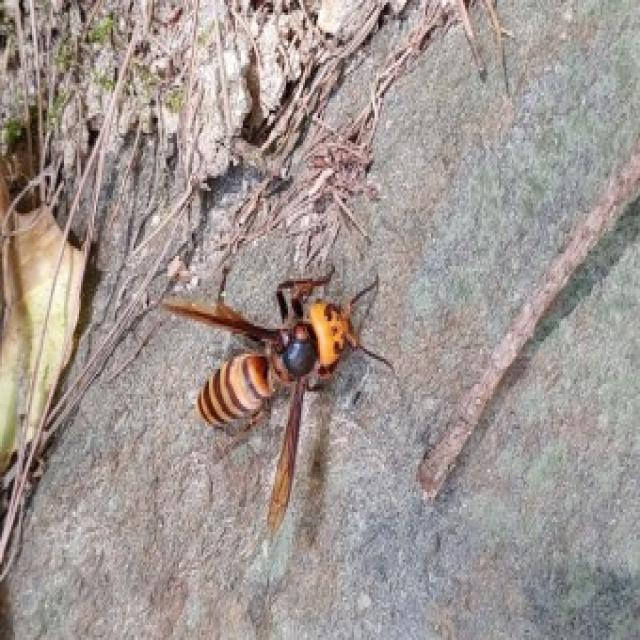Wasp: (157, 264, 386, 530)
